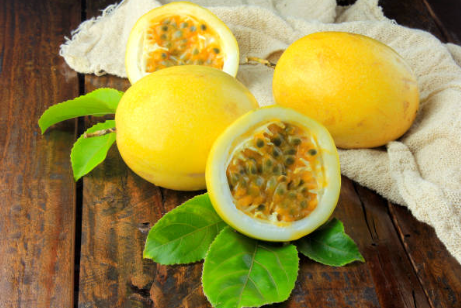maracuya: (111, 61, 264, 195), (269, 28, 423, 155)
